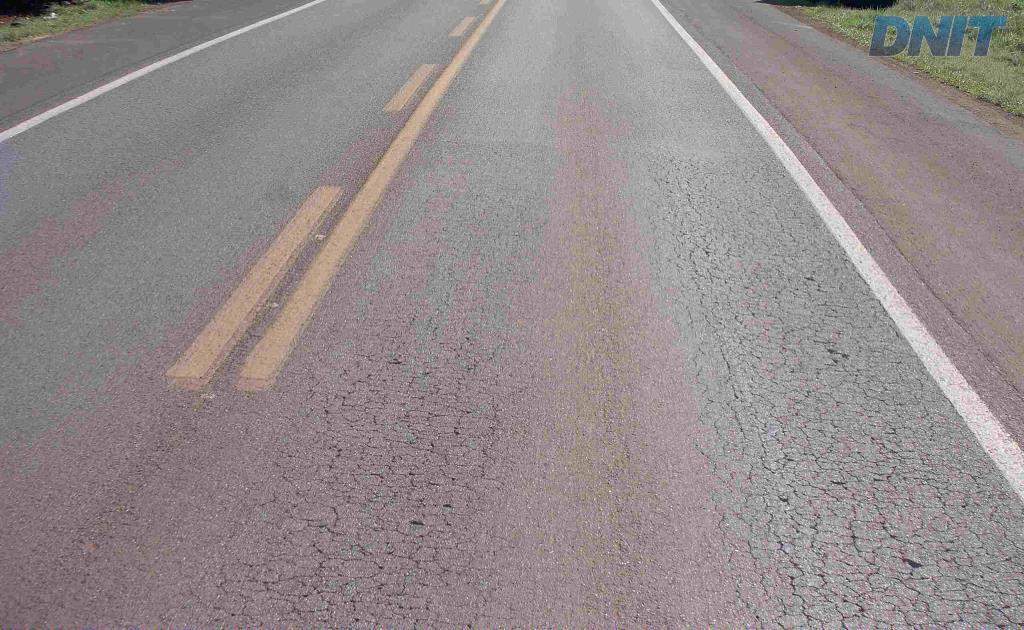crack: (977, 601, 1023, 629), (987, 474, 1010, 527)
